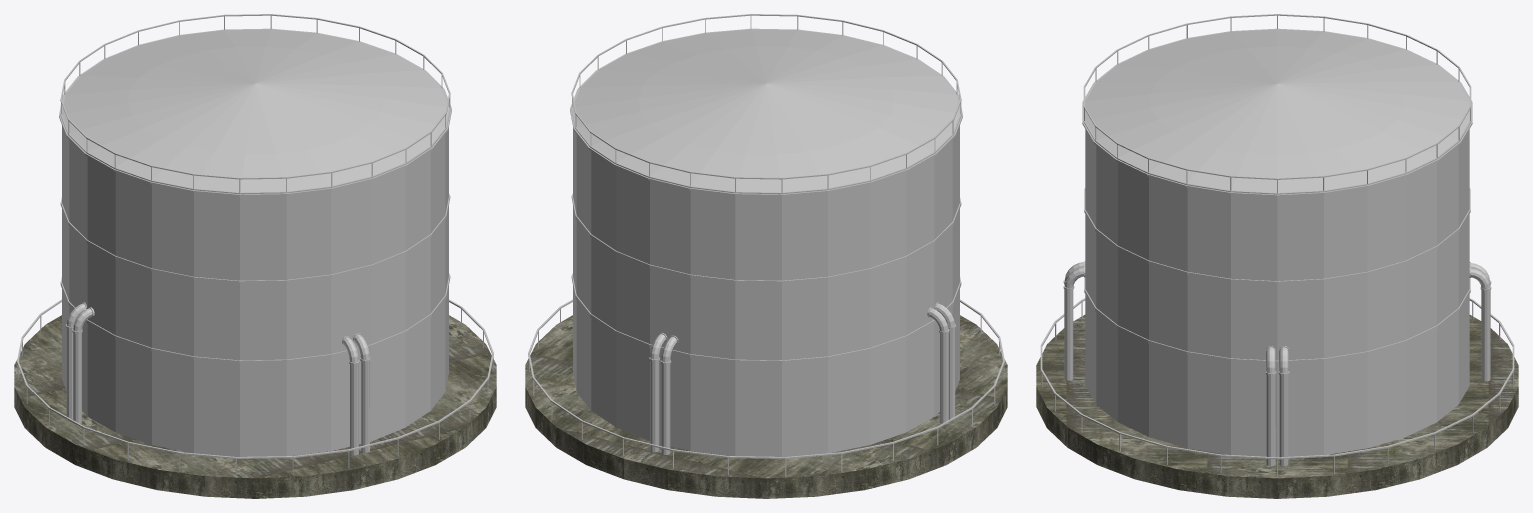
Rendered from Environmet_3.fbx.
3 views of the same model, side by side, from view 1: azimuth 30°, elevation 25°; view 2: azimuth 150°, elevation 25°; view 3: azimuth 270°, elevation 25° (orthographic).
Parts seen in each view (by area): view 1: Environmet_3; view 2: Environmet_3; view 3: Environmet_3.
Boxes of the visible parts, box(x1,y1,x2,y2) form: Environmet_3: box(14, 14, 496, 498); Environmet_3: box(525, 14, 1007, 498); Environmet_3: box(1036, 14, 1518, 498).
Bounding box in the file's own units: 10.43 × 7.43 × 10.38.
